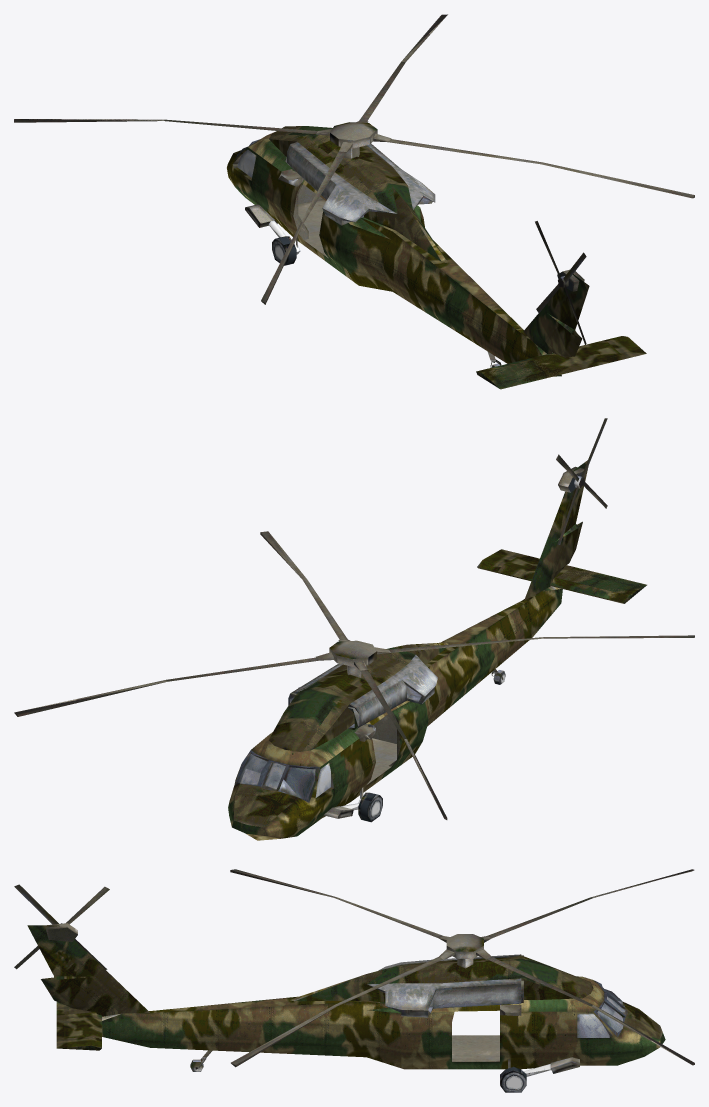
File: helicopter.obj
3 renders of one model, top to bottom at view 1: azimuth 30°, elevation 25°; view 2: azimuth 150°, elevation 25°; view 3: azimuth 270°, elevation 25°, orthographic. The views are drawn at different scales.
Visible parts, largest first — view 1: Group; view 2: Group; view 3: Group.
Boxes of the visible parts, x1,y1,x2,y2 form: Group: [14, 14, 694, 389]; Group: [14, 418, 694, 840]; Group: [14, 869, 694, 1092].
Bounding box in the file's own units: 141 × 60.99 × 207.
1 material, 1 textured.
